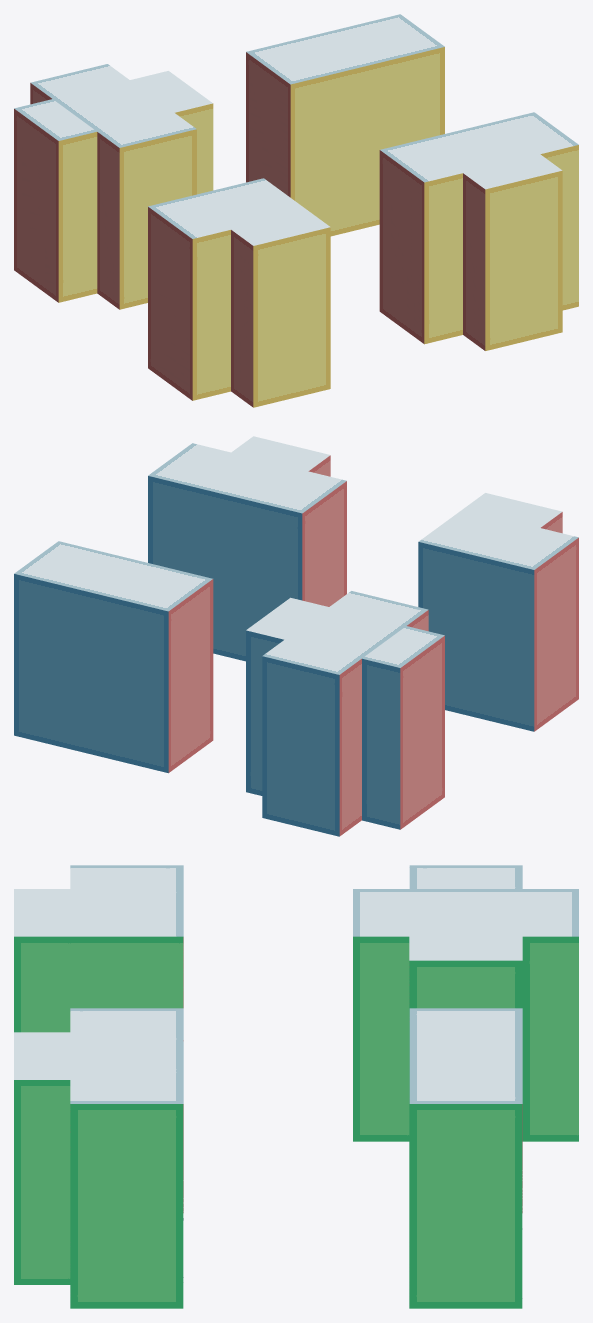
The model's file is proto-mesh-lib.gltf.
3 renders of one model, top to bottom at view 1: azimuth 30°, elevation 25°; view 2: azimuth 150°, elevation 25°; view 3: azimuth 270°, elevation 25°, orthographic. The views are drawn at different scales.
Visible parts, largest first — view 1: tee-col, cross-col, corner-col, line-col; view 2: cross-col, line-col, corner-col, tee-col; view 3: tee-col, cross-col, line-col, corner-col.
Boxes of the visible parts, x1=… form: tee-col: x1=379, y1=112, x2=578, y2=350; cross-col: x1=14, y1=64, x2=213, y2=309; corner-col: x1=148, y1=178, x2=330, y2=407; line-col: x1=246, y1=14, x2=444, y2=236; cross-col: x1=246, y1=591, x2=444, y2=836; line-col: x1=14, y1=541, x2=213, y2=773; corner-col: x1=418, y1=493, x2=578, y2=731; tee-col: x1=148, y1=436, x2=346, y2=661; tee-col: x1=14, y1=1008, x2=183, y2=1308; cross-col: x1=353, y1=865, x2=578, y2=1141; line-col: x1=409, y1=1008, x2=522, y2=1308; corner-col: x1=14, y1=865, x2=183, y2=1032.
Bounding box in the file's own units: 5 × 2 × 5.
4 materials, 4 textured.
